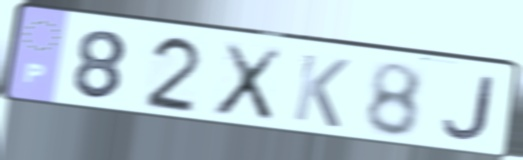2: (142, 33, 206, 116)
8: (361, 59, 424, 140), (71, 28, 130, 102)
J: (439, 74, 497, 144)
K: (289, 50, 353, 131)
X: (209, 40, 287, 124)
